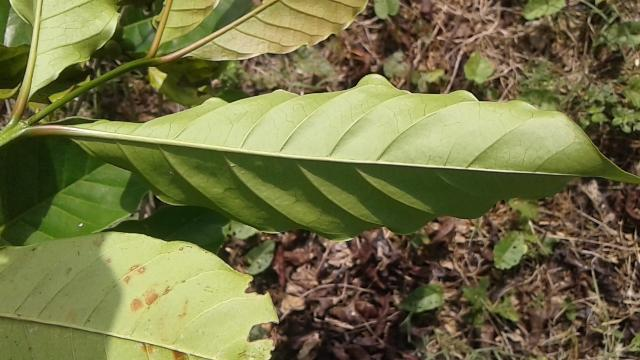healthy: (65, 74, 640, 242)
